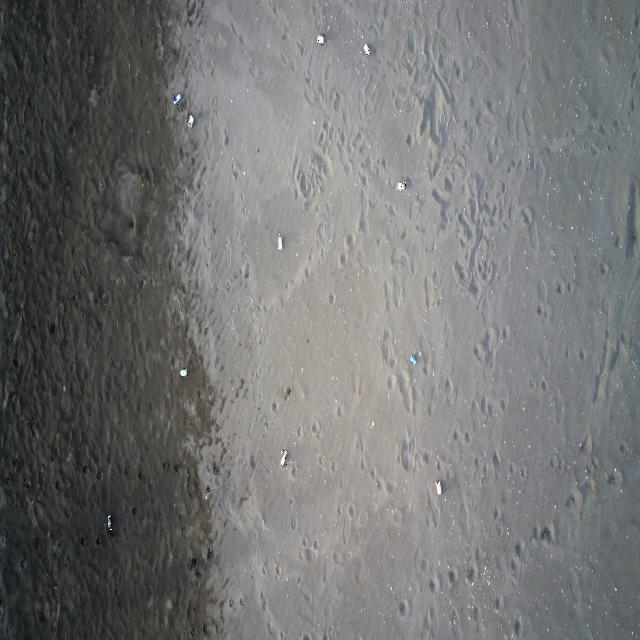tin-and-aluminum-cans: (280, 449, 288, 469), (436, 480, 444, 498), (187, 113, 195, 129), (172, 94, 181, 106), (316, 34, 325, 46), (106, 515, 113, 530), (363, 43, 371, 56), (278, 234, 283, 253), (396, 182, 406, 191), (180, 368, 188, 379), (410, 354, 416, 366)
